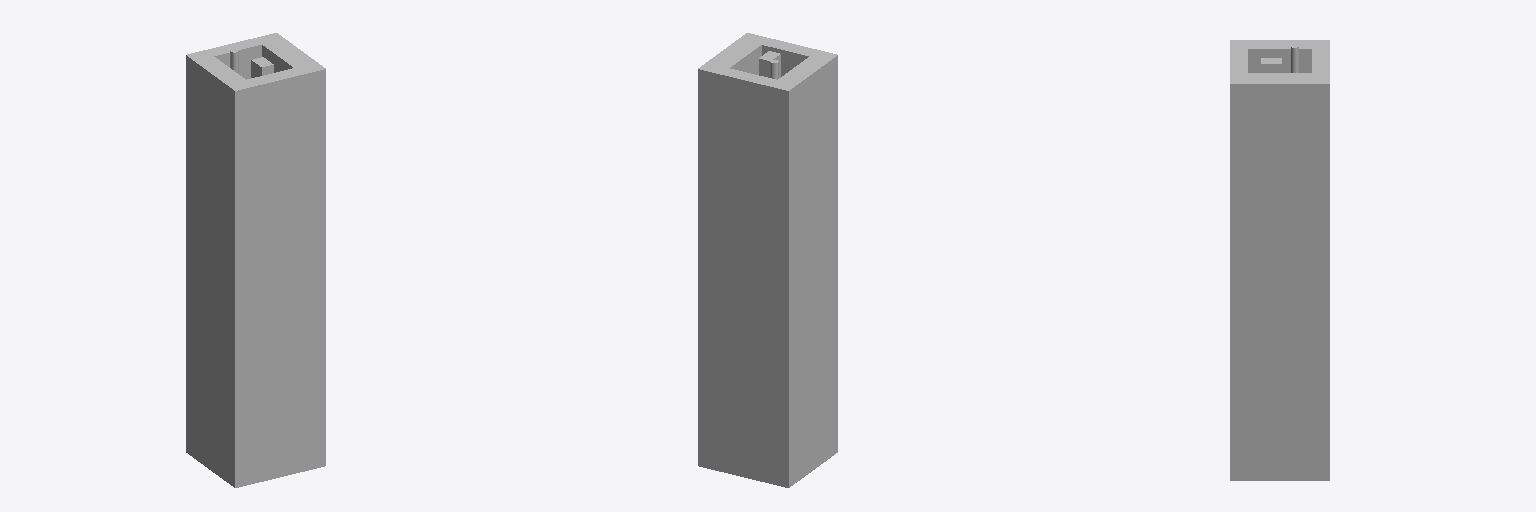
Rendered from grass_track_bounds.obj.
The picture shows the model from 3 angles: view 1: azimuth 30°, elevation 25°; view 2: azimuth 150°, elevation 25°; view 3: azimuth 270°, elevation 25°; orthographic projection.
Bounding box in the file's own units: 14.03 × 59.76 × 13.23.